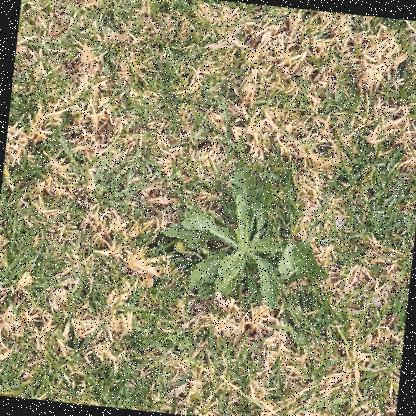Weeds: (146, 160, 341, 322)
